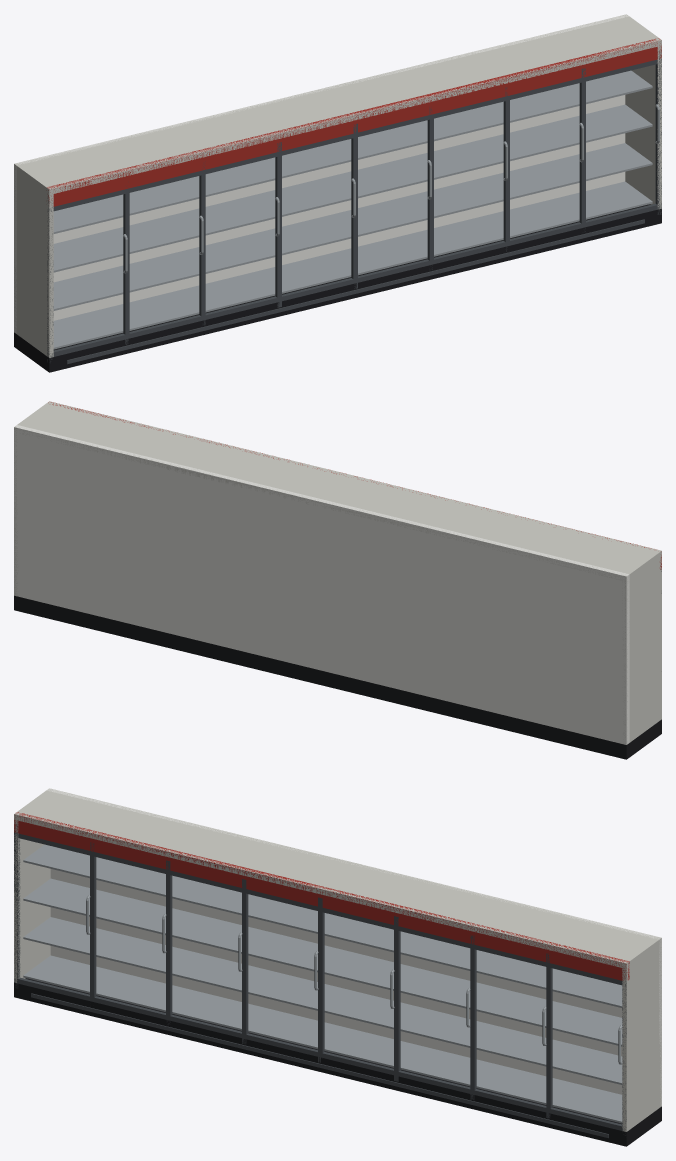
Rendered from vitrine_froide.glb.
3 renders of one model, top to bottom at view 1: azimuth 30°, elevation 25°; view 2: azimuth 150°, elevation 25°; view 3: azimuth 330°, elevation 25°, orthographic.
Visible parts, largest first — view 1: shelves, top, back, header, sides, base, mullions, rails, vent, handles; view 2: back, top, base, sides; view 3: shelves, top, back, header, sides, base, mullions, rails, vent, handles.
Part boxes in pixels (x1,y1,x2,y2): shelves: (53,70,652,349); top: (15,14,661,194); back: (14,14,628,333); header: (46,38,661,206); sides: (14,16,661,357); base: (14,204,661,372); mullions: (47,50,661,362); rails: (48,59,661,357); vent: (67,219,644,364); handles: (123,104,659,273); back: (14,425,629,744); top: (14,401,661,581); base: (14,595,661,759); sides: (14,402,661,743); shelves: (23,844,622,1123); top: (14,789,661,968); back: (47,788,661,1106); header: (14,812,629,980); sides: (14,789,661,1131); base: (14,978,661,1146); mullions: (14,824,626,1135); rails: (14,832,626,1130); vent: (31,993,608,1138); handles: (86,895,622,1064).
Size of the model in its own units: 7 by 2 by 0.7487.
6 materials, 6 textured.
